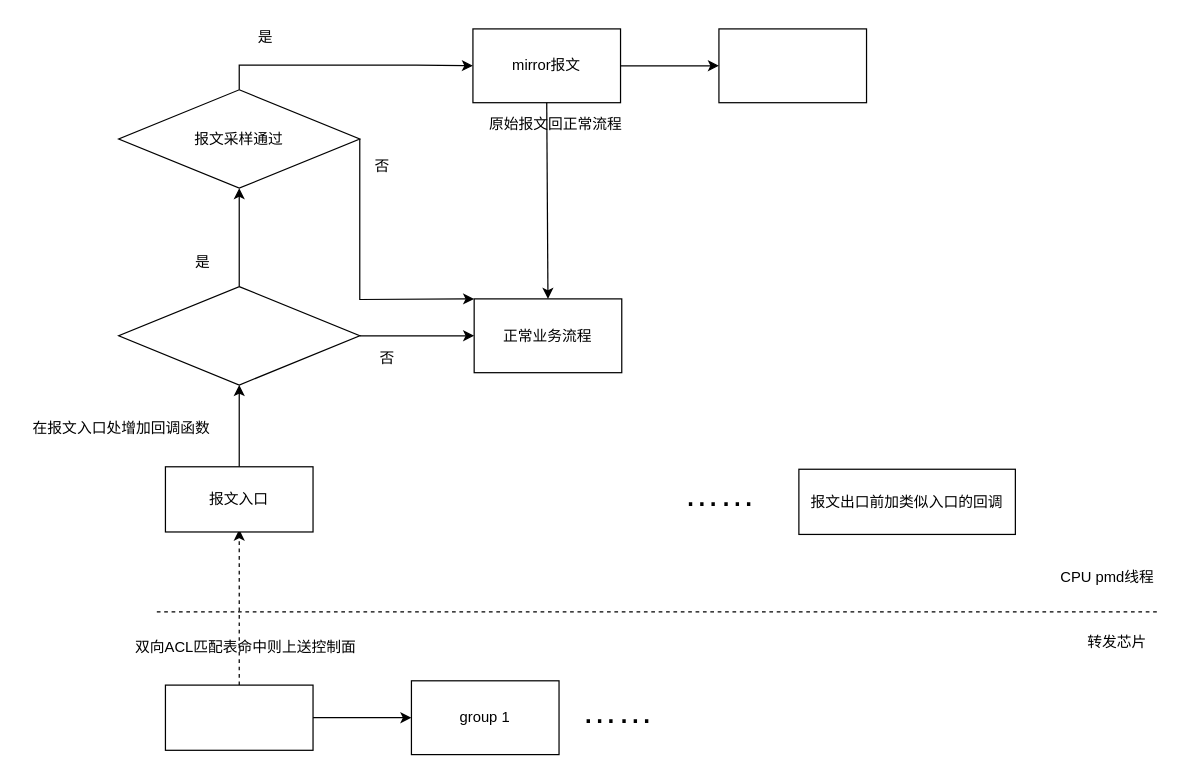
This 1199x776 diagram has some shape labels left out. Each missing label, with the box of its shape:
group 0: (164, 684, 313, 750)
复制报文写文件: (718, 28, 867, 103)
抓包开关打开&&ACL 匹配命中: (117, 285, 360, 385)
